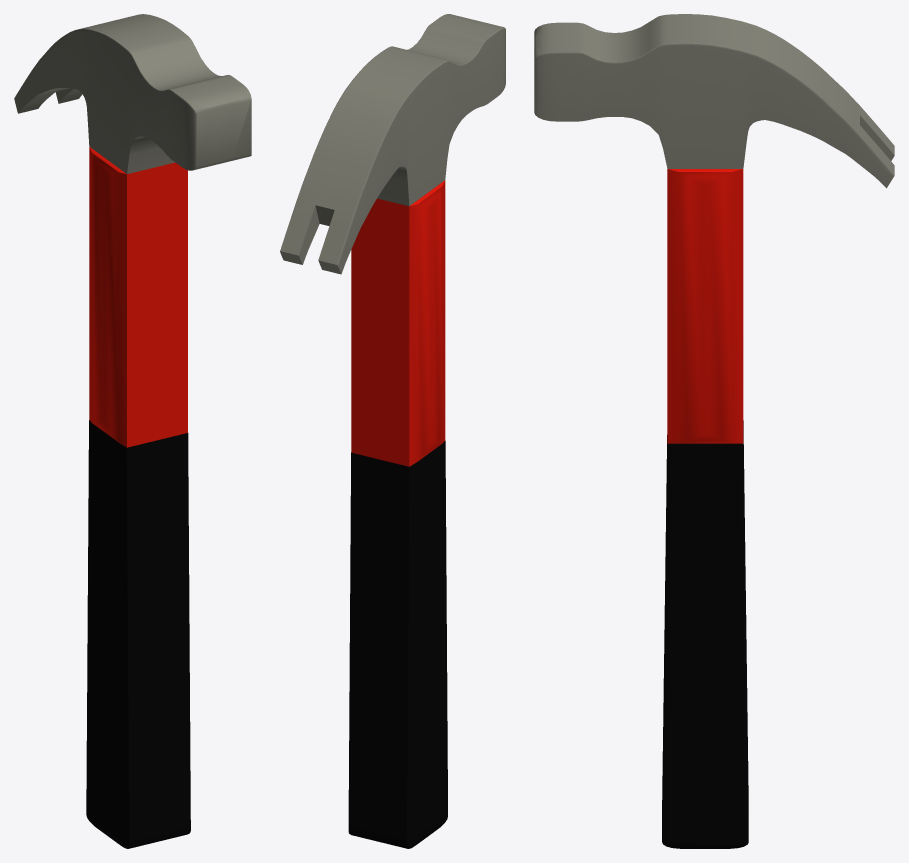
File: hammer.fbx
3 views of the same model, side by side, from view 1: azimuth 30°, elevation 25°; view 2: azimuth 150°, elevation 25°; view 3: azimuth 270°, elevation 25° (orthographic). The views are drawn at different scales.
Parts seen in each view (by area): view 1: hammer; view 2: hammer; view 3: hammer.
Part boxes in pixels (<box>): hammer: <box>14,14,251,848</box>; hammer: <box>280,14,505,848</box>; hammer: <box>534,14,894,848</box>.
Size of the model in its own units: 3.76 by 40.31 by 16.34.
